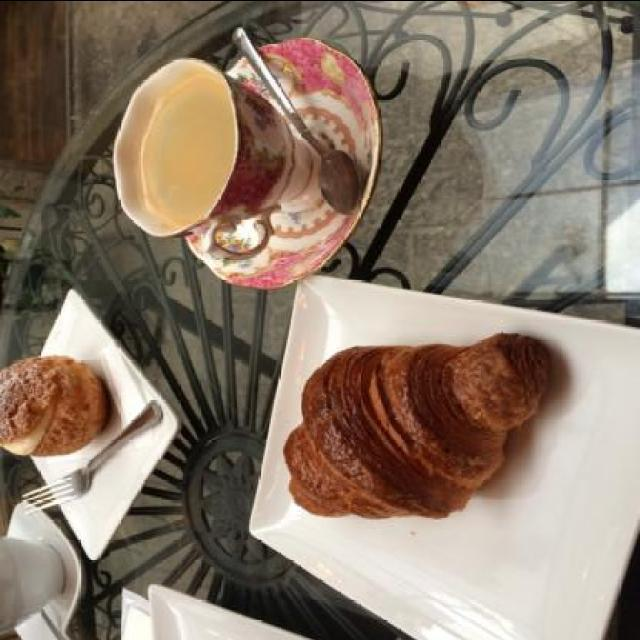Croissant: (280, 330, 557, 518)
